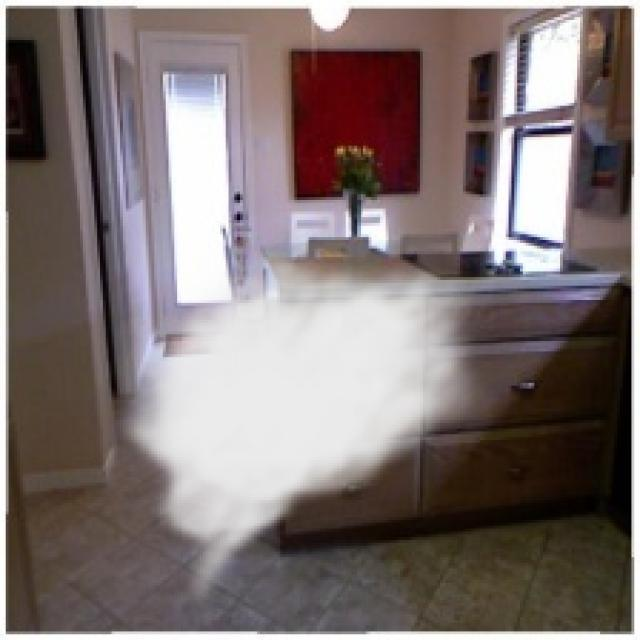Smoke: (112, 248, 497, 612)
